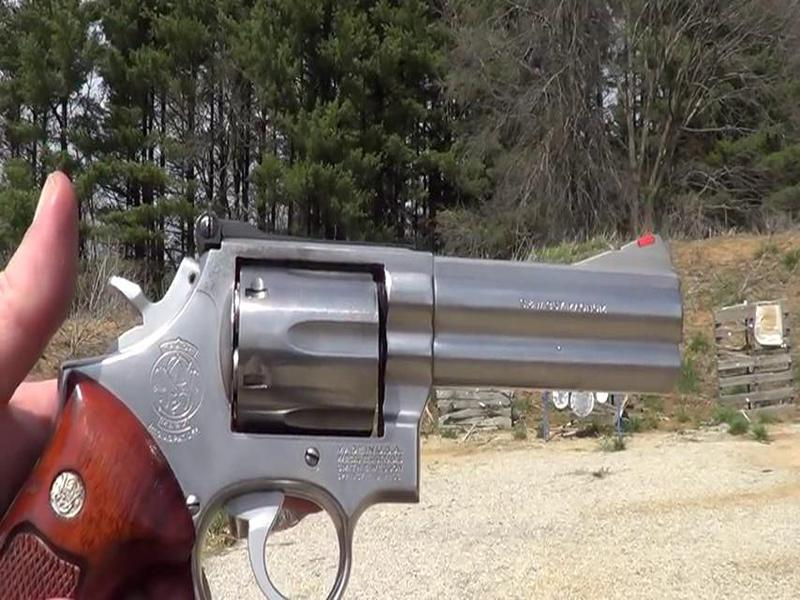Revolver: (62, 190, 711, 545)
